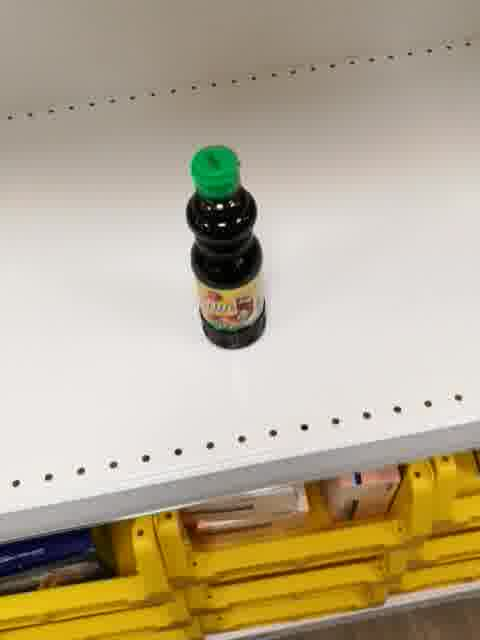cookingoil: (184, 143, 269, 353)
